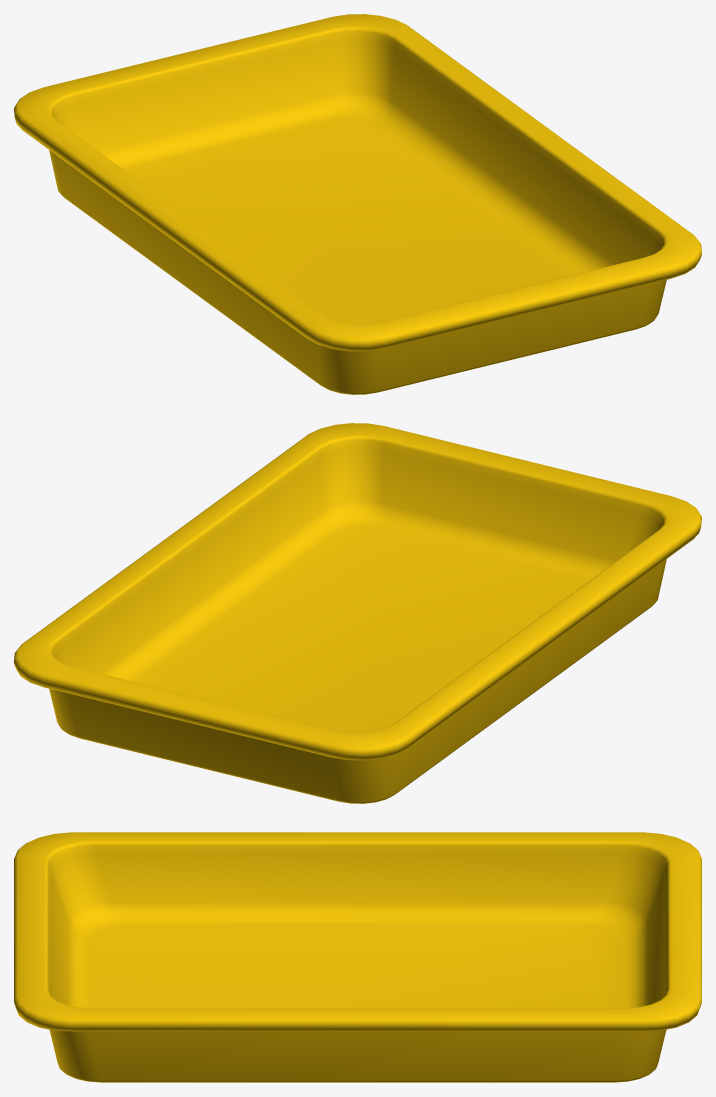
The model's file is tray.glb.
3 renders of one model, top to bottom at view 1: azimuth 30°, elevation 25°; view 2: azimuth 150°, elevation 25°; view 3: azimuth 270°, elevation 25°, orthographic.
Parts seen in each view (by area): view 1: Cube; view 2: Cube; view 3: Cube.
Part boxes in pixels (x1,y1,x2,y2): Cube: [14, 14, 701, 394]; Cube: [14, 423, 701, 803]; Cube: [14, 832, 701, 1082].
Size of the model in its own units: 1.5 by 0.2872 by 2.3.
1 material, 1 textured.
